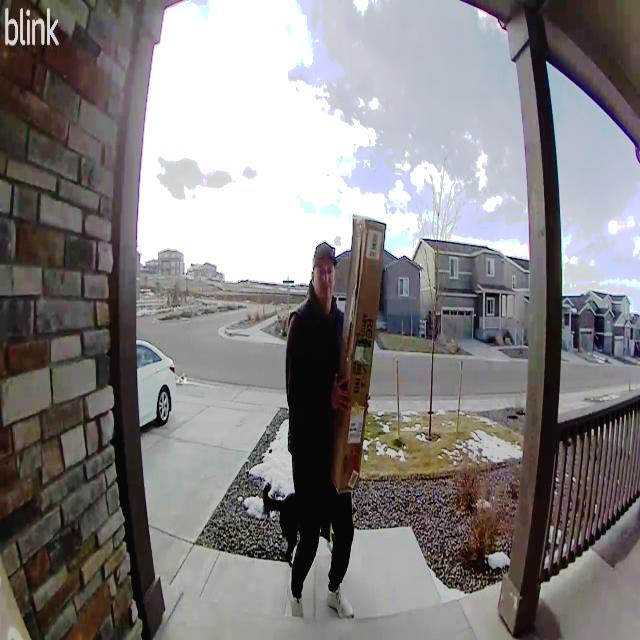Box: (334, 210, 388, 496)
